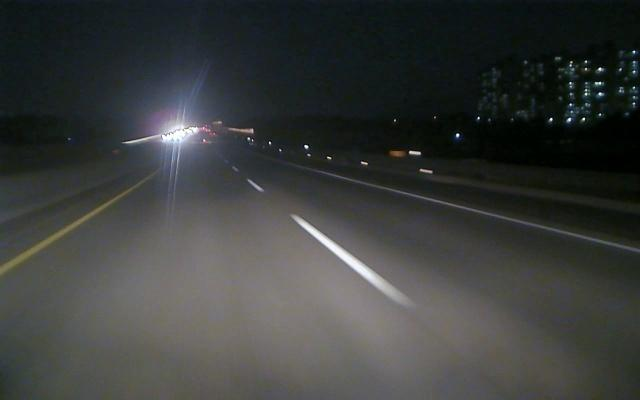lane: (327, 173, 637, 254), (247, 180, 417, 306), (1, 199, 114, 276)
